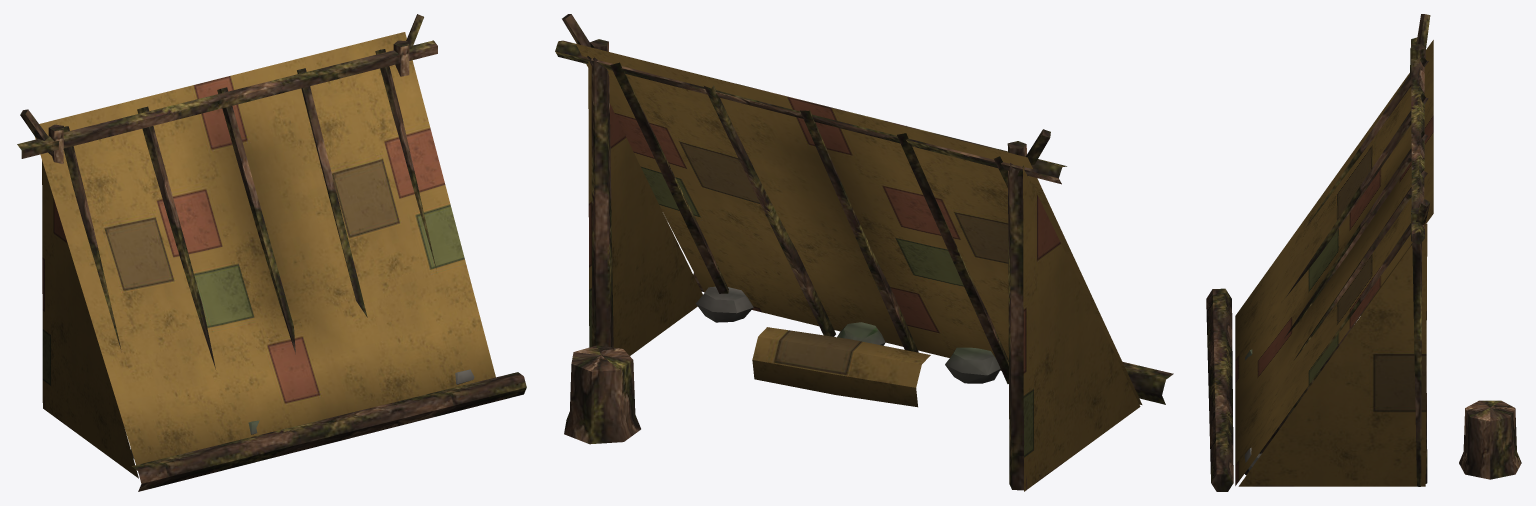
File: camp_lean_to.glb
3 renders of one model, left to right at view 1: azimuth 30°, elevation 25°; view 2: azimuth 150°, elevation 25°; view 3: azimuth 270°, elevation 25°, orthographic. The views are drawn at different scales.
Parts seen in each view (by area): view 1: camp_lean_to; view 2: camp_lean_to; view 3: camp_lean_to.
Boxes of the visible parts, <box> form: camp_lean_to: <box>17,14,526,491</box>; camp_lean_to: <box>555,14,1173,491</box>; camp_lean_to: <box>1206,14,1521,491</box>.
Size of the model in its own units: 2.9 by 2.03 by 1.96.
3 materials, 3 textured.
